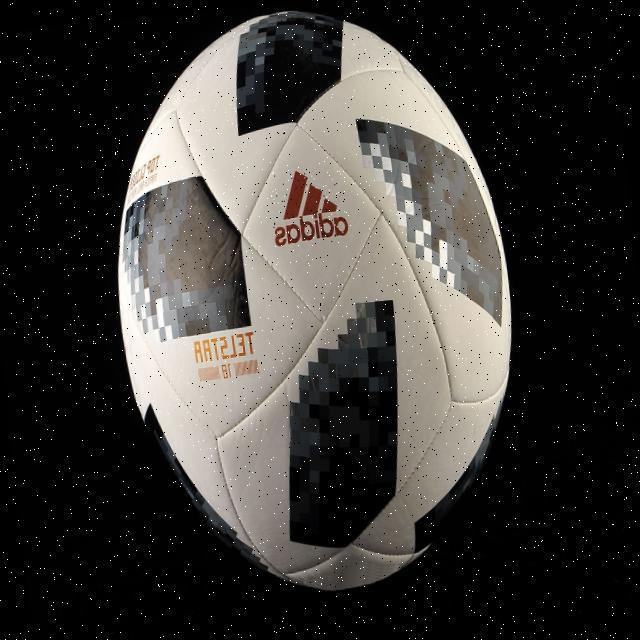Adidas: (268, 166, 349, 249)
